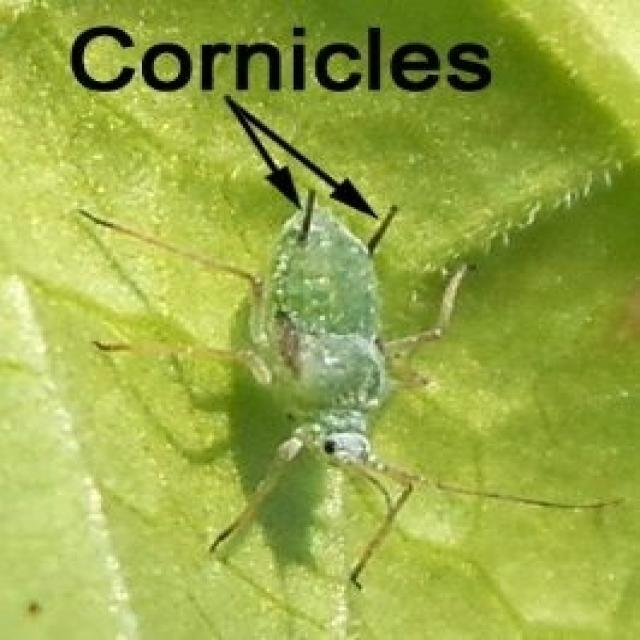Aphids: (61, 127, 607, 607)
